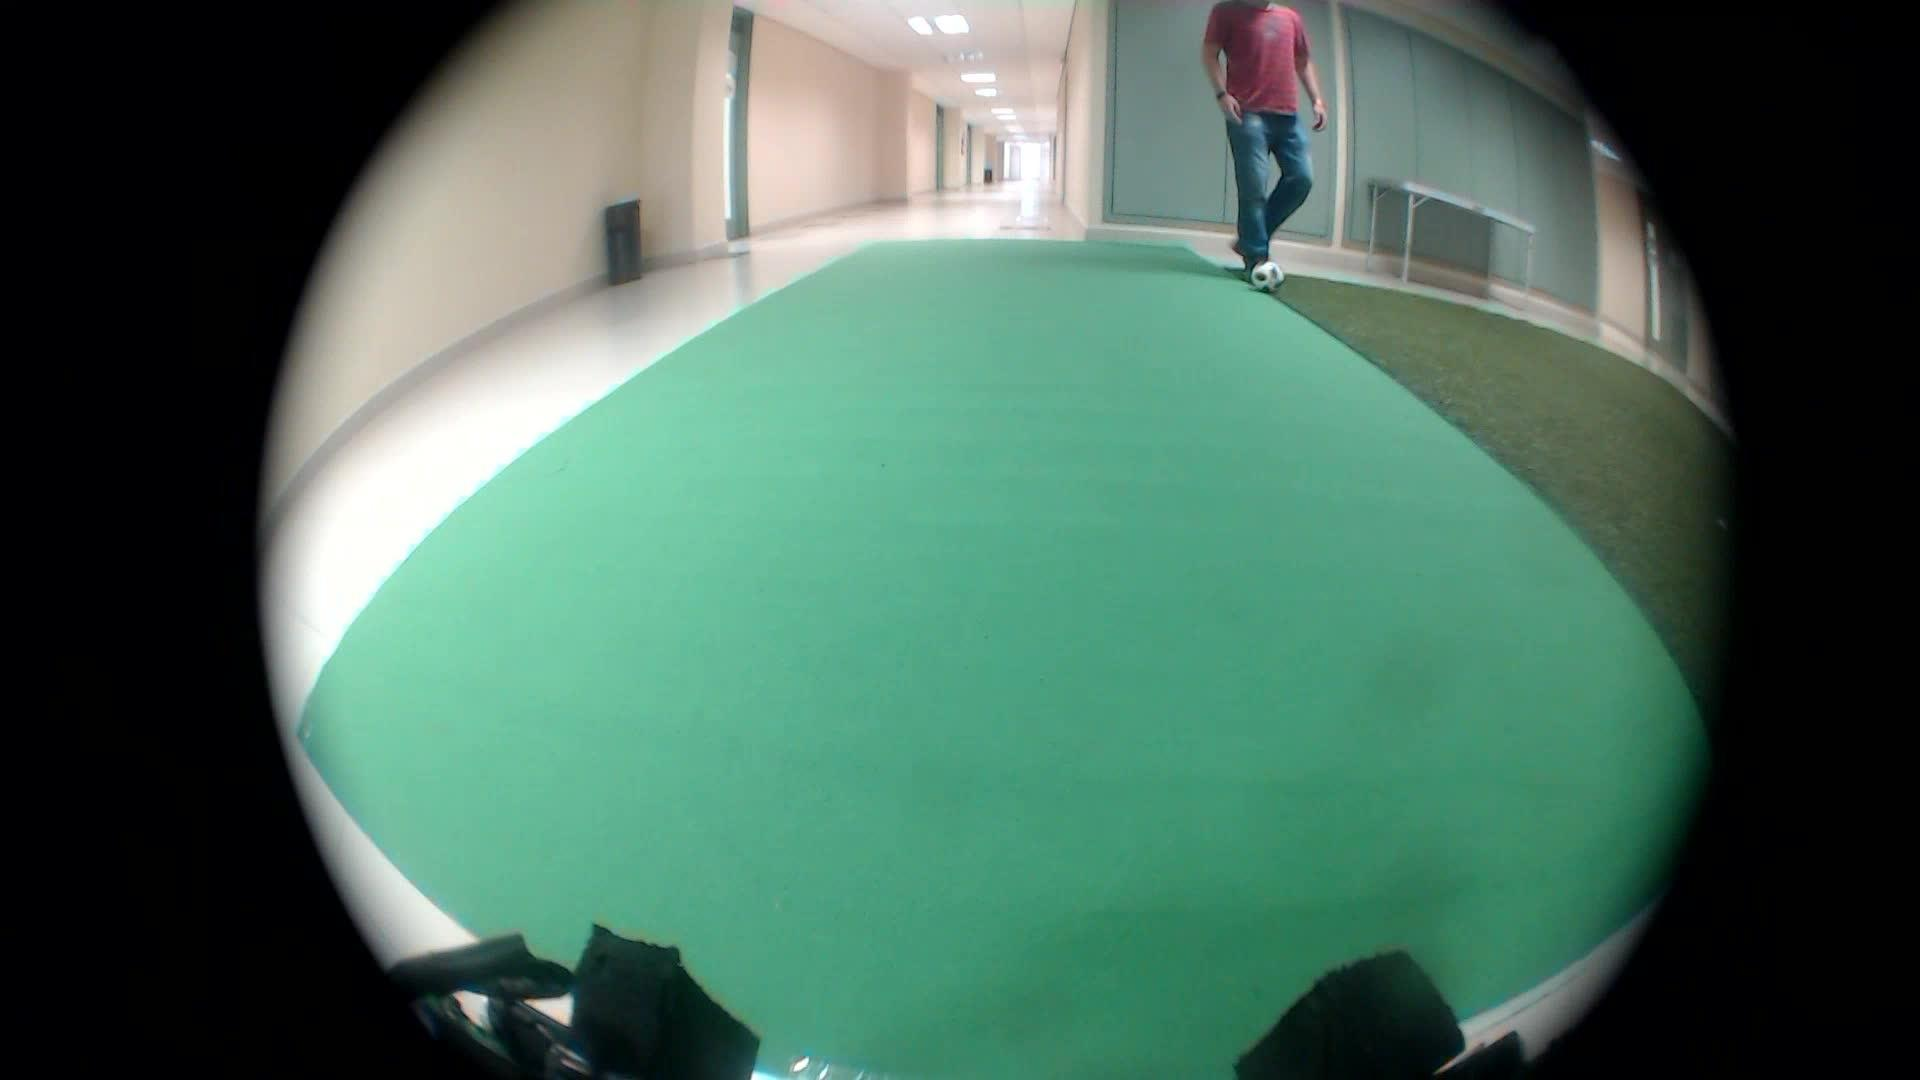ball: (1244, 255, 1298, 305)
